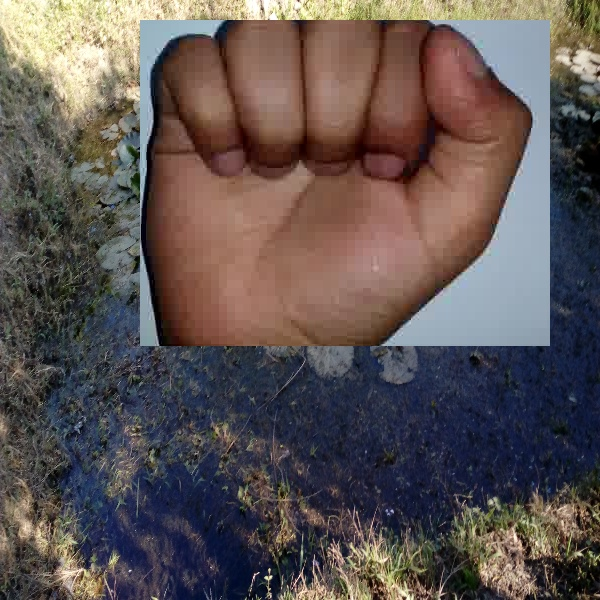A: (140, 20, 550, 346)
